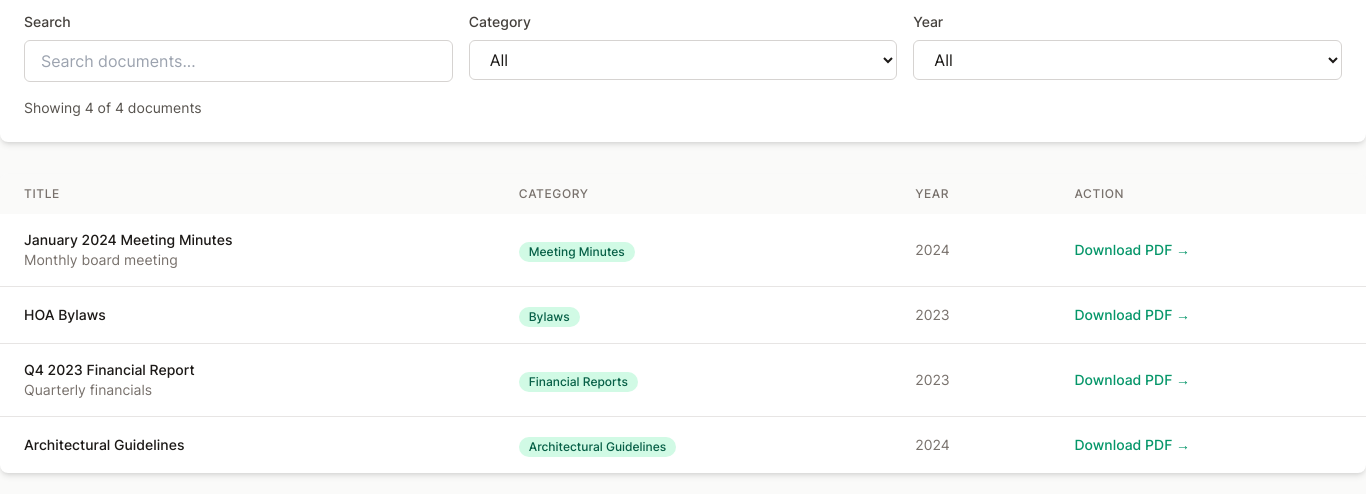
Test: DocumentsFilter › should filter documents by search term
This screenshot has width=1366, height=494.
In the field with test id "search-input": (238, 61) [24, 40, 453, 82], type "Financial"
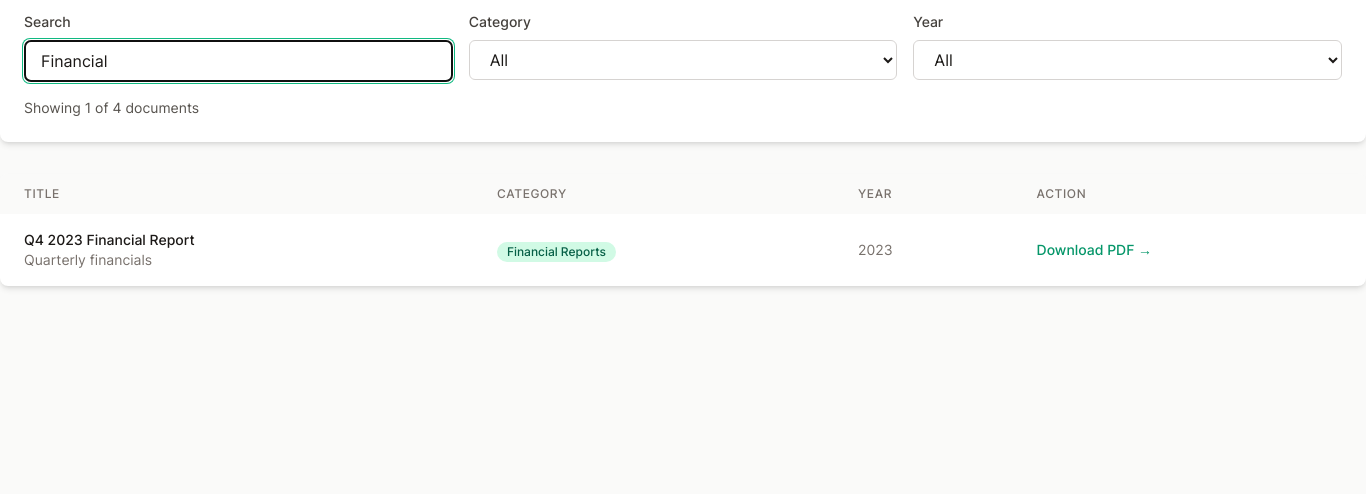
Expected: the text "Q4 2023 Financial Report" is shown, [24, 231, 195, 248]
Now the text "HOA Bylaws" is gone
Now the text "Showing 1 of 4 documents" is shown, box [24, 99, 199, 116]
